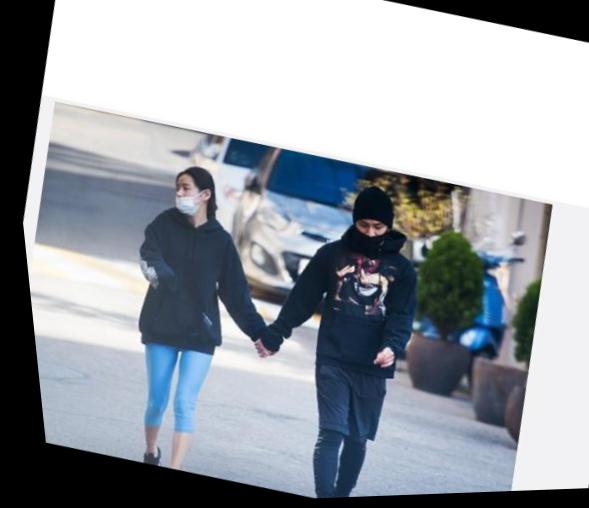WRONG: (345, 218, 385, 258), (165, 175, 201, 219)
